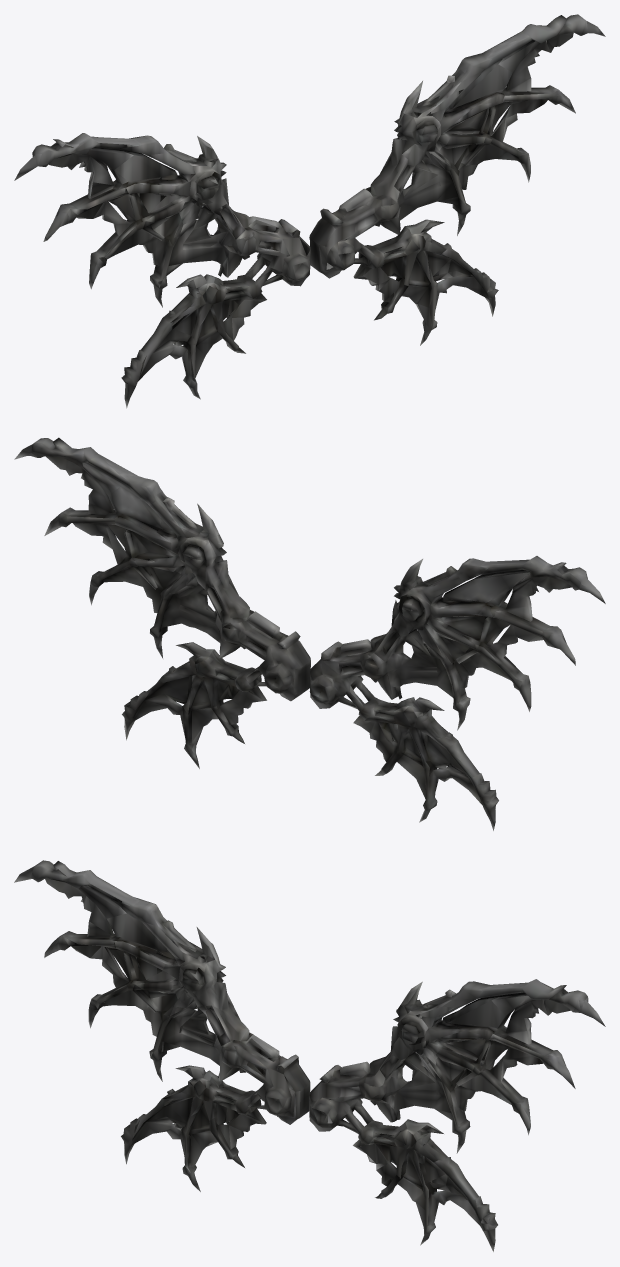
Rendered from 钢铁翅膀3.fbx.
3 views of the same model, one above another, from view 1: azimuth 30°, elevation 25°; view 2: azimuth 150°, elevation 25°; view 3: azimuth 330°, elevation 25° (orthographic).
Visible parts, largest first — view 1: geometry_0.010; view 2: geometry_0.010; view 3: geometry_0.010.
Boxes of the visible parts, x1=… form: geometry_0.010: x1=14, y1=14, x2=605, y2=408; geometry_0.010: x1=14, y1=437, x2=605, y2=830; geometry_0.010: x1=14, y1=860, x2=605, y2=1251.
Bounding box in the file's own units: 100 × 47.5 × 7.77.
